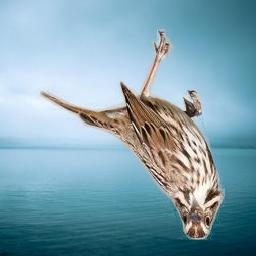Sparrow: (37, 30, 226, 241)
